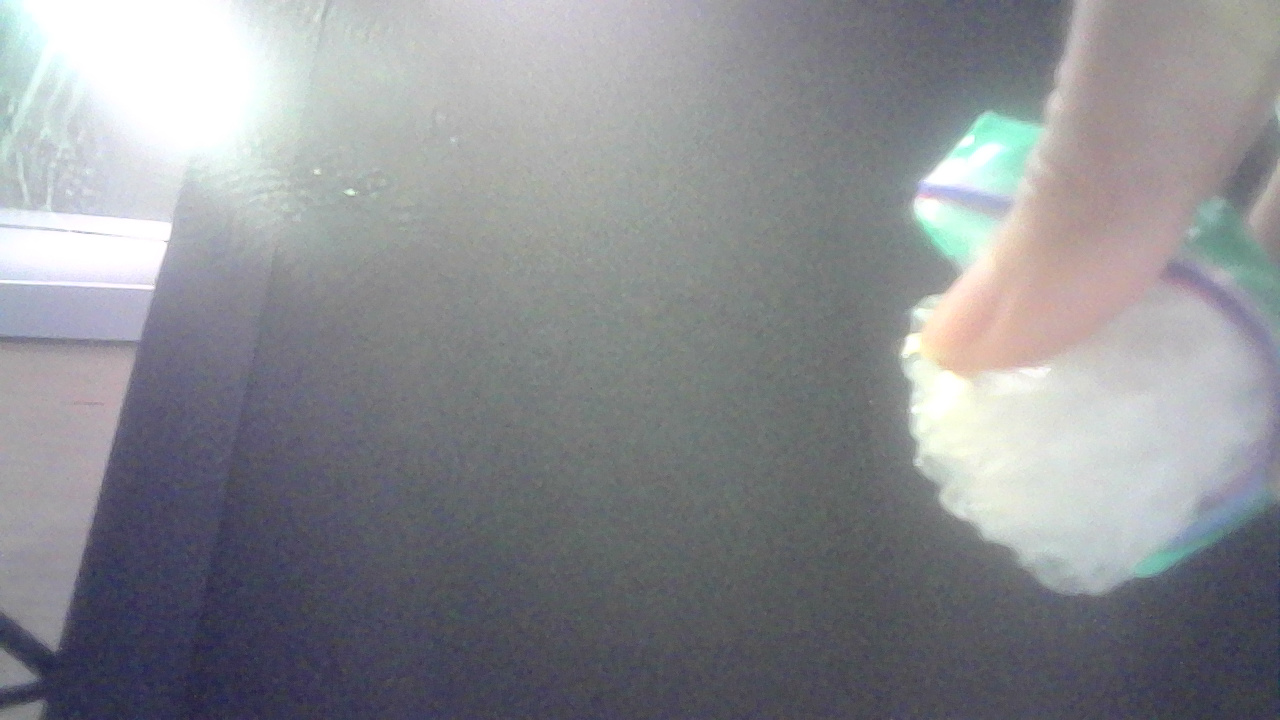Plastic_Recycling: (873, 114, 1280, 614)
